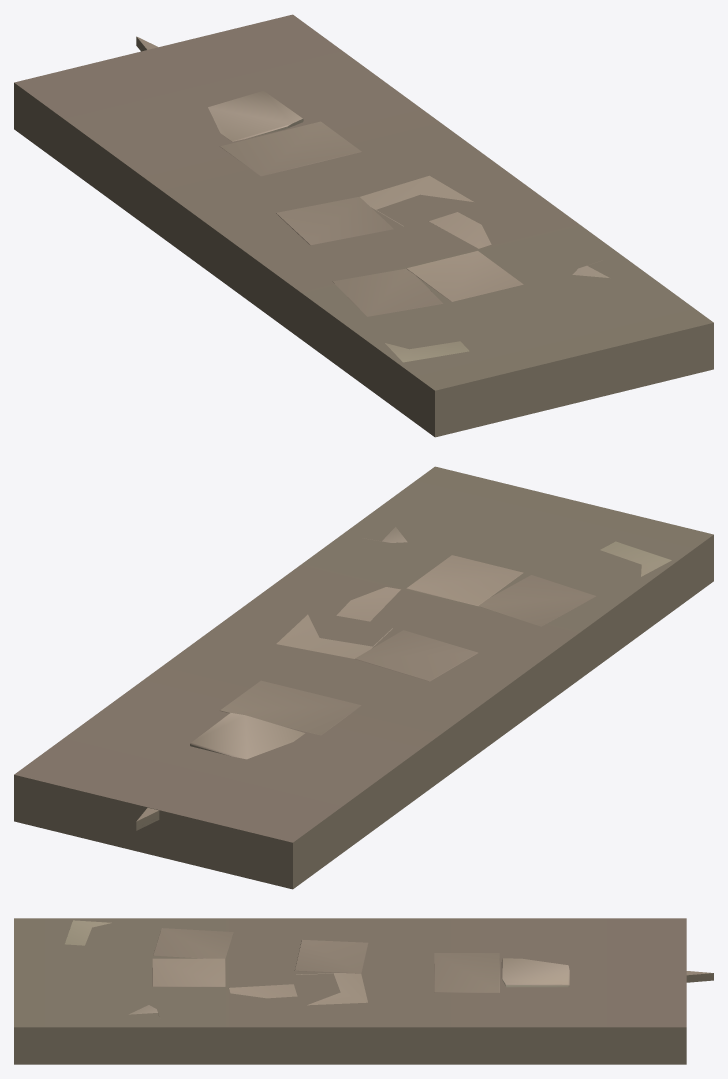
The model's file is dome_floor.glb.
3 views of the same model, one above another, from view 1: azimuth 30°, elevation 25°; view 2: azimuth 150°, elevation 25°; view 3: azimuth 270°, elevation 25° (orthographic). The views are drawn at different scales.
Parts seen in each view (by area): view 1: dome_floor_far, dome_floor; view 2: dome_floor_far, dome_floor; view 3: dome_floor_far, dome_floor.
Part boxes in pixels (x1,y1,x2,y2): dome_floor_far: [14, 14, 713, 437]; dome_floor: [136, 36, 609, 362]; dome_floor_far: [14, 466, 713, 889]; dome_floor: [136, 527, 671, 830]; dome_floor_far: [14, 918, 686, 1064]; dome_floor: [65, 920, 713, 1014].
Bounding box in the file's own units: 18.74 × 3.26 × 51.
